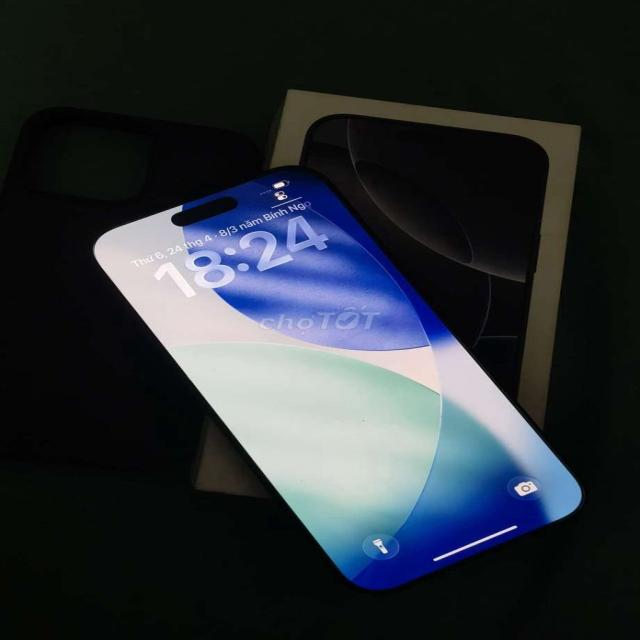gen_16: (88, 158, 598, 602)
